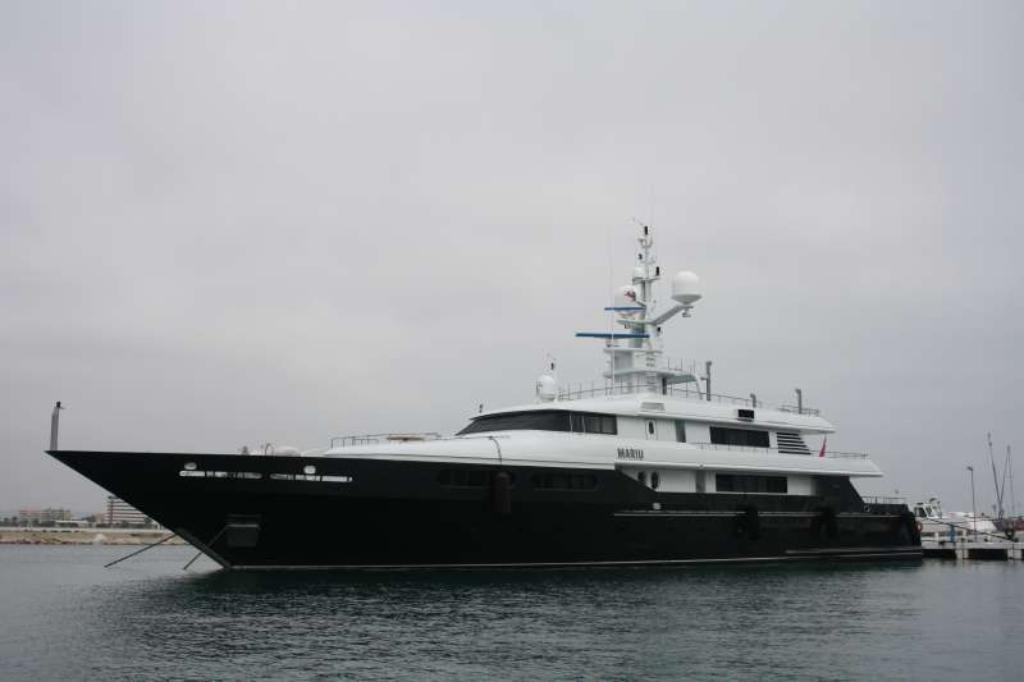PassengerShip: (32, 208, 936, 564)
